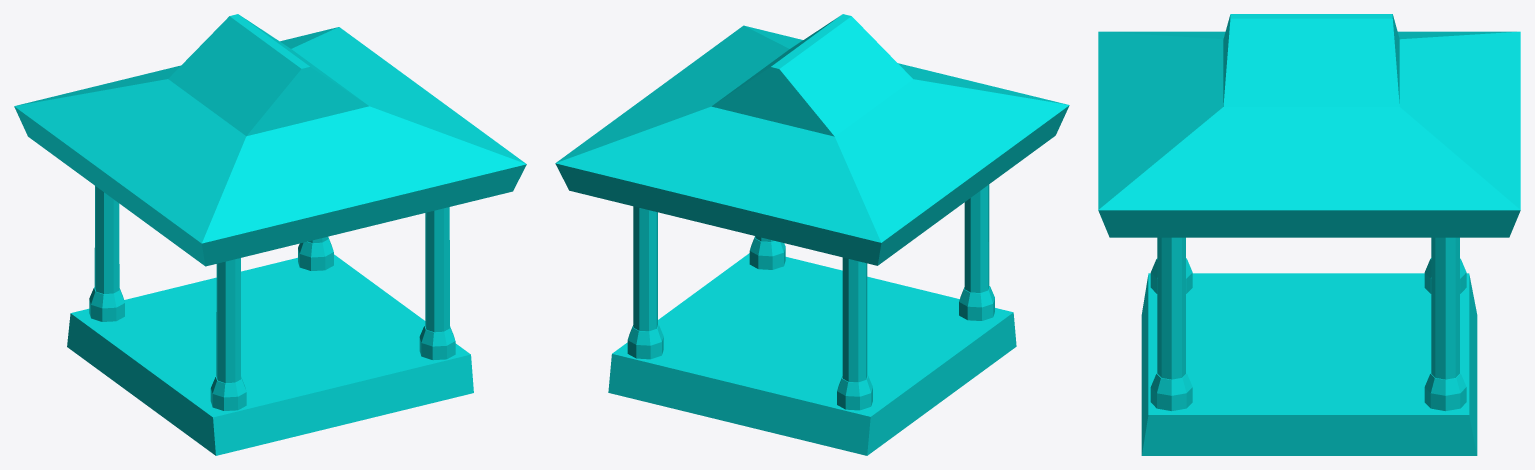
File: SM_Bld_Shrine_02_Collision.fbx
3 views of the same model, side by side, from view 1: azimuth 30°, elevation 25°; view 2: azimuth 150°, elevation 25°; view 3: azimuth 270°, elevation 25° (orthographic). The views are drawn at different scales.
Visible parts, largest first — view 1: SM_Bld_Shrine_02_Collision; view 2: SM_Bld_Shrine_02_Collision; view 3: SM_Bld_Shrine_02_Collision.
Boxes of the visible parts, x1,y1,x2,y2 form: SM_Bld_Shrine_02_Collision: (14, 14, 526, 455); SM_Bld_Shrine_02_Collision: (555, 14, 1069, 455); SM_Bld_Shrine_02_Collision: (1098, 14, 1520, 455).
Bounding box in the file's own units: 590 × 568 × 590.
